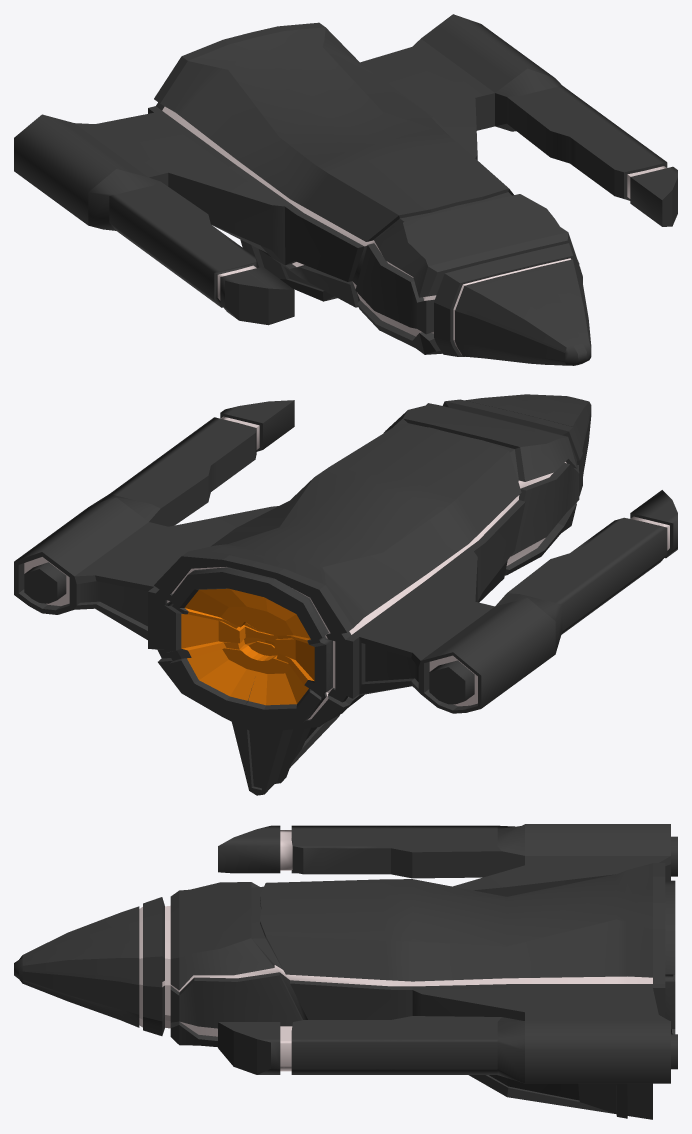
The model's file is Navicella_5.fbx.
3 views of the same model, one above another, from view 1: azimuth 30°, elevation 25°; view 2: azimuth 150°, elevation 25°; view 3: azimuth 270°, elevation 25° (orthographic).
Parts seen in each view (by area): view 1: pCube3; view 2: pCube3; view 3: pCube3.
Part boxes in pixels (x1,y1,x2,y2): pCube3: [14, 14, 677, 365]; pCube3: [14, 394, 677, 795]; pCube3: [14, 824, 677, 1119].
Bounding box in the file's own units: 477 × 229 × 599.
